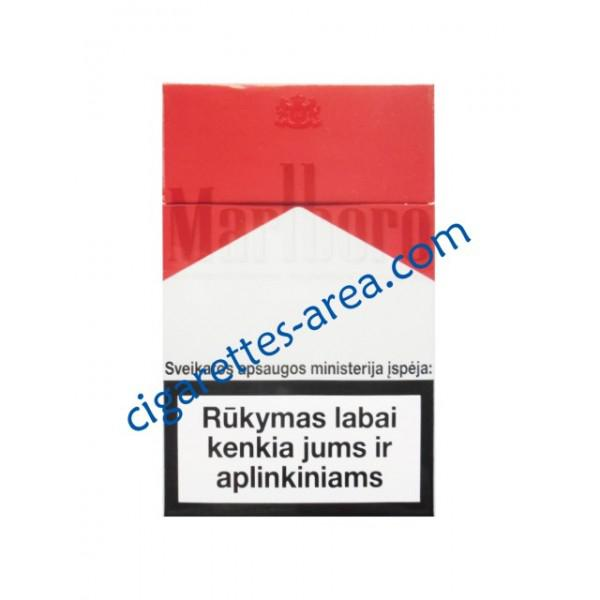marlboro_red: (162, 84, 433, 516)
